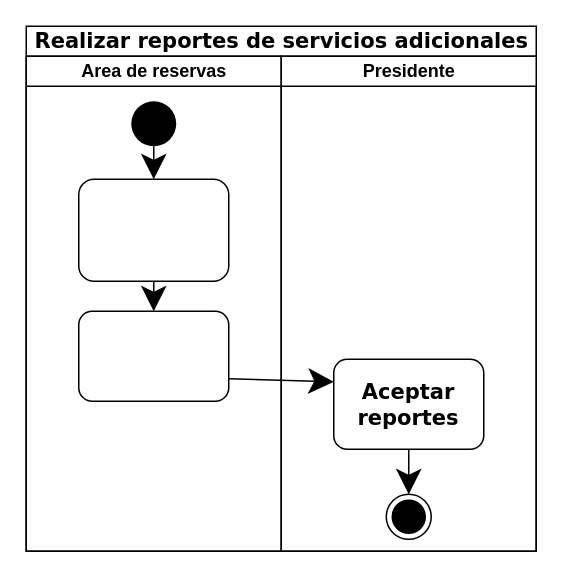
The diagram is 563 pixels wide and 578 high, and some of its shapes have lost their labels. The centre of each missing label's shape, as x and y in pixels:
"Enviar reportes" belongs at pixel 153 355.
"Generar reportes de servicios adicionales" belongs at pixel 153 229.
